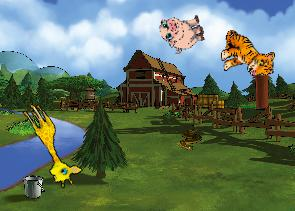giraffe: (11, 99, 86, 191)
pig: (156, 7, 208, 56)
tiger: (219, 30, 275, 77)
